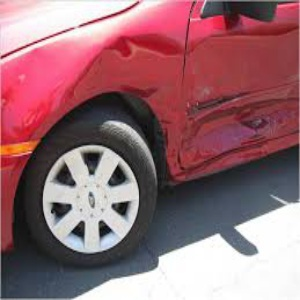door: (174, 84, 300, 171)
